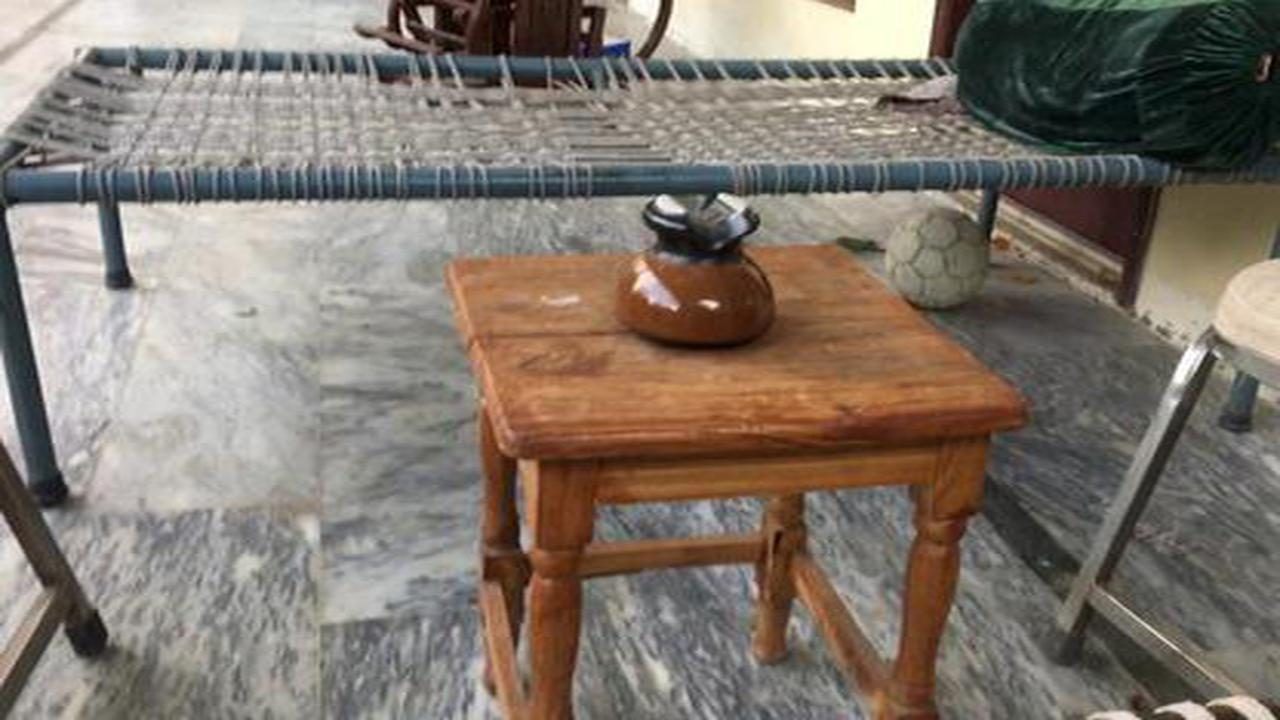insulator_pin: (594, 177, 785, 359)
